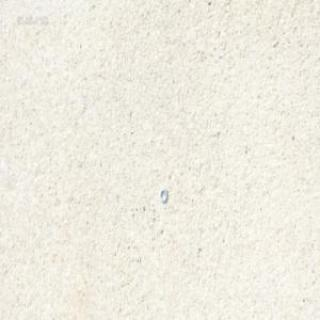Washertrack_idkeyframe: (159, 186, 167, 202)
